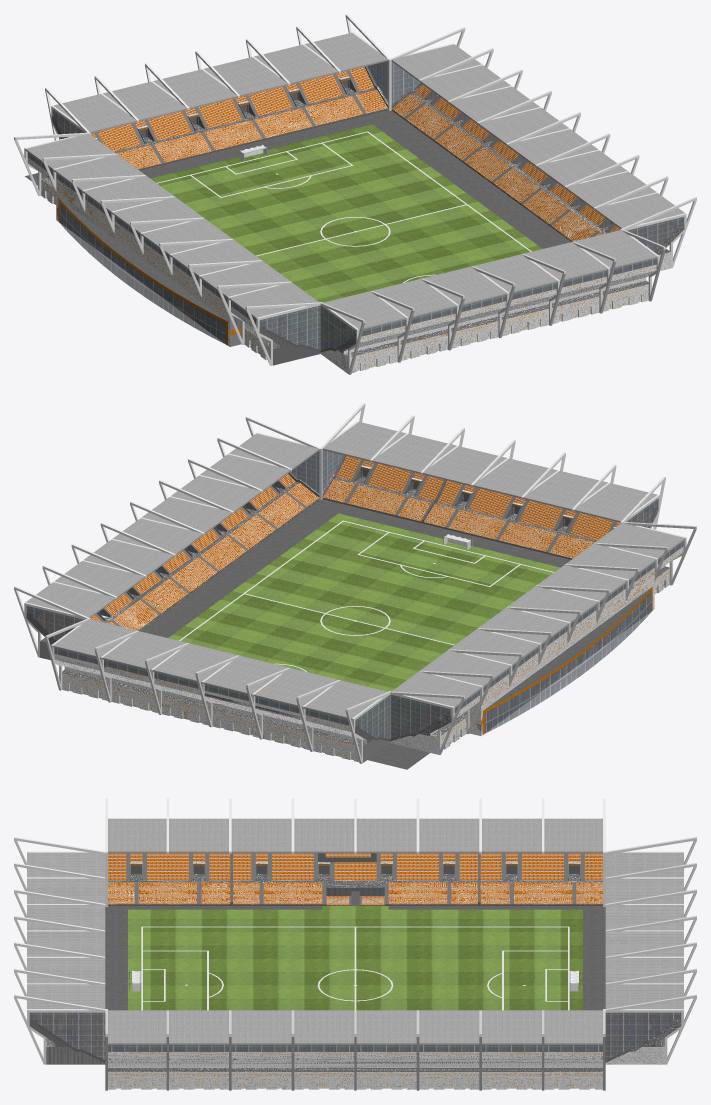
File: Stadium.FBX
3 views of the same model, one above another, from view 1: azimuth 30°, elevation 25°; view 2: azimuth 150°, elevation 25°; view 3: azimuth 270°, elevation 25° (orthographic). The views are drawn at different scales.
Visible parts, largest first — view 1: Ceiling, Field, Outside, Seats, Concrete, Rails, Glass, Stairs, Lines, Borders; view 2: Ceiling, Field, Outside, Concrete, Seats, Rails, Glass, Stairs, Lines, Borders; view 3: Ceiling, Field, Outside, Seats, Concrete, Rails, Glass, Stairs, Lines, Borders.
Part boxes in pixels (x1,y1,x2,y2): Ceiling: [25, 32, 684, 330]; Field: [150, 124, 542, 302]; Outside: [27, 76, 683, 373]; Seats: [91, 66, 619, 241]; Concrete: [25, 66, 684, 357]; Rails: [14, 14, 696, 374]; Glass: [27, 61, 684, 349]; Stairs: [94, 70, 615, 237]; Lines: [157, 131, 531, 282]; Borders: [28, 78, 656, 346]; Ceiling: [26, 422, 685, 719]; Field: [168, 513, 560, 691]; Outside: [40, 462, 683, 762]; Concrete: [26, 455, 669, 769]; Seats: [91, 456, 619, 630]; Rails: [14, 403, 696, 763]; Glass: [26, 450, 683, 739]; Stairs: [95, 459, 616, 626]; Lines: [179, 520, 554, 671]; Borders: [87, 467, 681, 747]; Ceiling: [27, 818, 683, 1044]; Field: [128, 906, 582, 1010]; Outside: [46, 862, 680, 1089]; Seats: [108, 853, 602, 905]; Concrete: [29, 853, 681, 1071]; Rails: [14, 798, 696, 1090]; Glass: [29, 1012, 681, 1059]; Stairs: [126, 853, 584, 905]; Lines: [141, 926, 569, 1010]; Borders: [109, 865, 602, 1079].
Size of the model in its own units: 5617 by 768 by 6871.
Materials: 15 (11 with a texture image).
